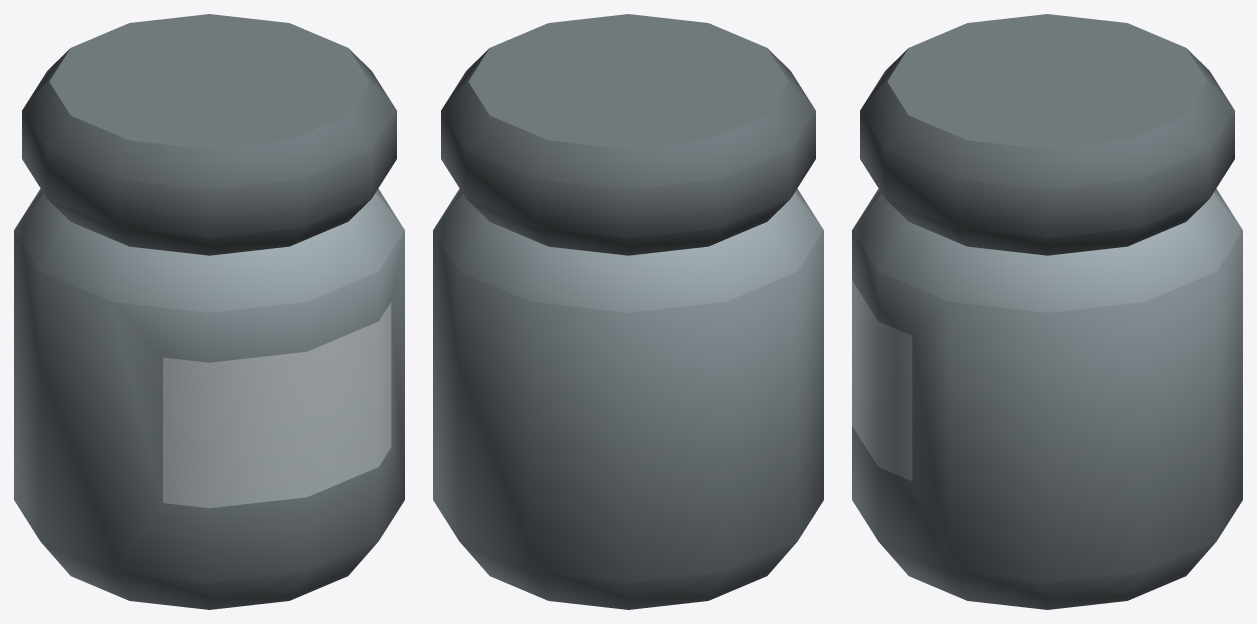
File: prop_jar_b.glb
The picture shows the model from 3 angles, left to right: view 1: azimuth 30°, elevation 25°; view 2: azimuth 150°, elevation 25°; view 3: azimuth 270°, elevation 25°; orthographic projection.
Parts seen in each view (by area): view 1: jar_B_medium; view 2: jar_B_medium; view 3: jar_B_medium.
Boxes of the visible parts, x1=… form: jar_B_medium: x1=14, y1=14, x2=404, y2=609; jar_B_medium: x1=433, y1=14, x2=823, y2=609; jar_B_medium: x1=852, y1=14, x2=1242, y2=609.
Size of the model in its own units: 0.5 by 0.65 by 0.5.
1 material, 1 textured.
